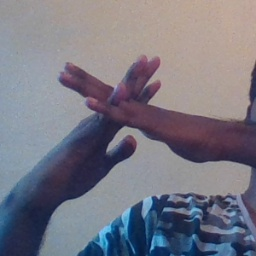W: (49, 47, 178, 184)
